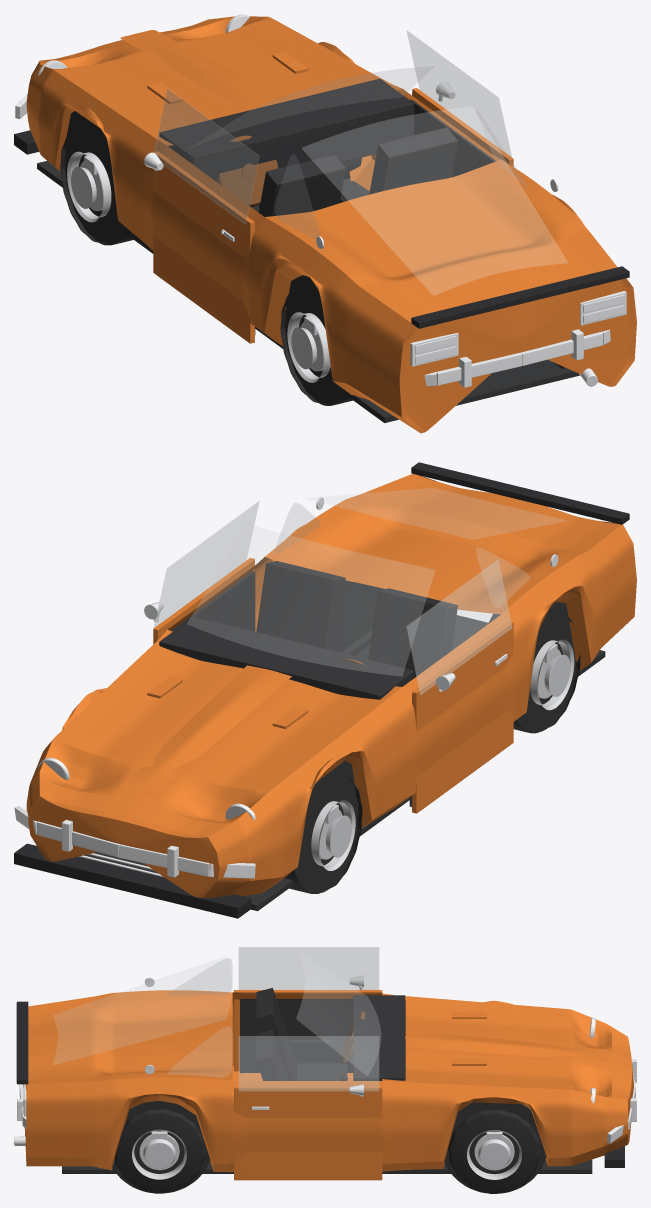
Rendered from vehicle.opt.glb.
The picture shows the model from 3 angles, top to bottom: view 1: azimuth 30°, elevation 25°; view 2: azimuth 150°, elevation 25°; view 3: azimuth 270°, elevation 25°; orthographic projection. The views are drawn at different scales.
Visible parts, largest first — view 1: BODY_Datsun_240Z_Unibody, GLASS_Datsun_240Z_Greenhouse, INTERIOR_Datsun_240Z_Cockpit, CHASSIS_Datsun_240Z_Platform, DOOR_FL_Datsun_240Z, DOOR_FL_Datsun_240Z_WindowGlass, LIGHTING_Datsun_240Z_OpticsAndTrim, DOOR_FR_Datsun_240Z_WindowGlass, AERO_Datsun_240Z_AirDamAndSpoiler, WHEEL_FL_240Z, WHEEL_RL_240Z, DOOR_FR_Datsun_240Z_InnerCard (+2 smaller); view 2: BODY_Datsun_240Z_Unibody, GLASS_Datsun_240Z_Greenhouse, INTERIOR_Datsun_240Z_Cockpit, CHASSIS_Datsun_240Z_Platform, DOOR_FL_Datsun_240Z, AERO_Datsun_240Z_AirDamAndSpoiler, DOOR_FL_Datsun_240Z_WindowGlass, LIGHTING_Datsun_240Z_OpticsAndTrim, DOOR_FR_Datsun_240Z_WindowGlass, WHEEL_FL_240Z, WHEEL_RL_240Z, DOOR_FR_Datsun_240Z_InnerCard (+1 smaller); view 3: BODY_Datsun_240Z_Unibody, GLASS_Datsun_240Z_Greenhouse, DOOR_FR_Datsun_240Z, INTERIOR_Datsun_240Z_Cockpit, DOOR_FR_Datsun_240Z_WindowGlass, DOOR_FL_Datsun_240Z_WindowGlass, WHEEL_FR_240Z, WHEEL_RR_240Z, DOOR_FL_Datsun_240Z_InnerCard, CHASSIS_Datsun_240Z_Platform, AERO_Datsun_240Z_AirDamAndSpoiler, LIGHTING_Datsun_240Z_OpticsAndTrim (+1 smaller).
Part boxes in pixels (x1,y1,x2,y2): BODY_Datsun_240Z_Unibody: [26, 16, 636, 433]; GLASS_Datsun_240Z_Greenhouse: [222, 66, 567, 294]; INTERIOR_Datsun_240Z_Cockpit: [159, 78, 457, 216]; CHASSIS_Datsun_240Z_Platform: [37, 111, 579, 422]; DOOR_FL_Datsun_240Z: [153, 151, 254, 343]; DOOR_FL_Datsun_240Z_WindowGlass: [154, 88, 259, 224]; LIGHTING_Datsun_240Z_OpticsAndTrim: [15, 14, 626, 387]; DOOR_FR_Datsun_240Z_WindowGlass: [406, 30, 511, 156]; AERO_Datsun_240Z_AirDamAndSpoiler: [14, 130, 629, 328]; WHEEL_FL_240Z: [60, 126, 111, 243]; WHEEL_RL_240Z: [280, 286, 330, 404]; DOOR_FR_Datsun_240Z_InnerCard: [410, 99, 495, 177]; BODY_Datsun_240Z_Unibody: [26, 473, 636, 897]; GLASS_Datsun_240Z_Greenhouse: [187, 488, 565, 675]; INTERIOR_Datsun_240Z_Cockpit: [159, 561, 457, 699]; CHASSIS_Datsun_240Z_Platform: [84, 580, 605, 911]; DOOR_FL_Datsun_240Z: [412, 621, 513, 813]; AERO_Datsun_240Z_AirDamAndSpoiler: [14, 462, 629, 918]; DOOR_FL_Datsun_240Z_WindowGlass: [406, 559, 512, 694]; LIGHTING_Datsun_240Z_OpticsAndTrim: [14, 757, 255, 878]; DOOR_FR_Datsun_240Z_WindowGlass: [154, 501, 259, 627]; WHEEL_FL_240Z: [311, 777, 362, 892]; WHEEL_RL_240Z: [530, 616, 580, 731]; DOOR_FR_Datsun_240Z_InnerCard: [171, 571, 255, 631]; BODY_Datsun_240Z_Unibody: [23, 990, 633, 1172]; GLASS_Datsun_240Z_Greenhouse: [53, 950, 380, 1076]; DOOR_FR_Datsun_240Z: [234, 1086, 382, 1180]; INTERIOR_Datsun_240Z_Cockpit: [256, 988, 405, 1080]; DOOR_FR_Datsun_240Z_WindowGlass: [239, 1036, 378, 1090]; DOOR_FL_Datsun_240Z_WindowGlass: [239, 947, 378, 989]; WHEEL_FR_240Z: [448, 1109, 540, 1193]; WHEEL_RR_240Z: [114, 1109, 205, 1193]; DOOR_FL_Datsun_240Z_InnerCard: [240, 999, 353, 1073]; CHASSIS_Datsun_240Z_Platform: [62, 1101, 592, 1193]; AERO_Datsun_240Z_AirDamAndSpoiler: [16, 1001, 624, 1167]; LIGHTING_Datsun_240Z_OpticsAndTrim: [14, 1018, 636, 1146].
Size of what is drawn, in the model's own units: 1.85 by 1.29 by 4.29.
